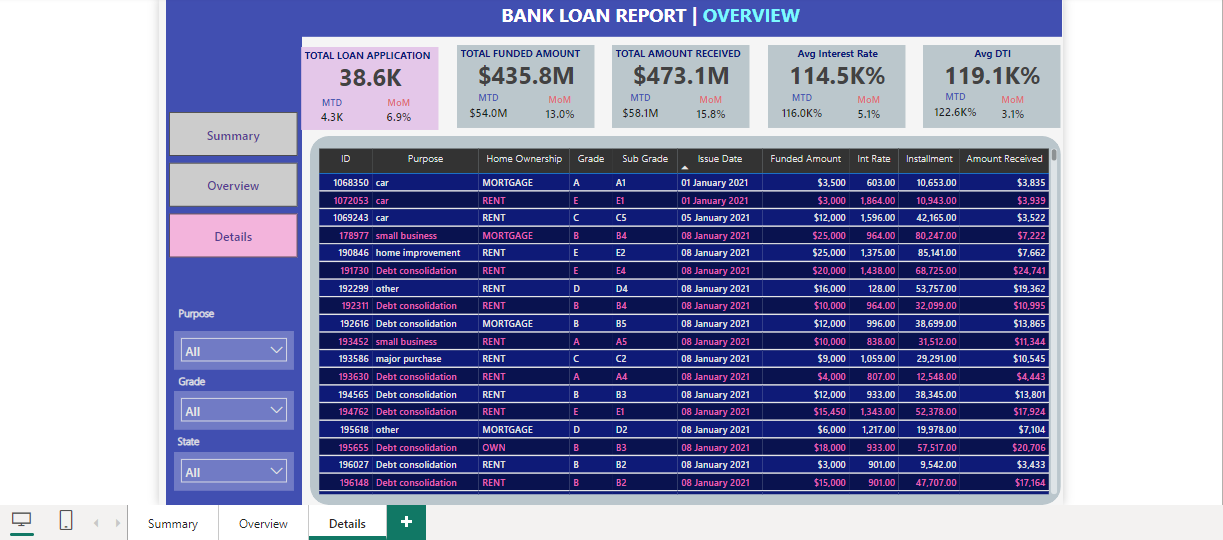

The dashboard page shown, as its layout file describes it:
{"tool":"powerbi","page":{"name":"Details","canvas":[1280,720],"ordinal":2},"visuals":[{"type":"shape","box":[9.9,55.3,192.8,664.7],"z":0},{"type":"shape","box":[422,68.7,194.9,117.6],"z":0,"group":"g2"},{"type":"shape","box":[642.3,68.7,194.9,117.6],"z":0,"group":"g3"},{"type":"shape","box":[862.7,68.7,194.9,117.6],"z":0,"group":"g4"},{"type":"shape","box":[1083.1,68.7,194.9,117.6],"z":0,"group":"g5"},{"type":"shape","box":[201.6,71.5,194.9,117.6],"z":0,"group":"g1"},{"type":"shape","box":[10.1,1.7,1269.9,55.4],"z":1000},{"type":"textbox","box":[421.7,65.2,197,45.4],"z":1000,"group":"g2"},{"type":"textbox","box":[642,65.2,197,45.4],"z":1000,"group":"g3"},{"type":"textbox","box":[862.4,65.2,197,45.4],"z":1000,"group":"g4"},{"type":"textbox","box":[1082.8,65.2,197,45.4],"z":1000,"group":"g5"},{"type":"textbox","box":[201.3,68,197,45.4],"z":1000,"group":"g1"},{"type":"card","fields":{"Values":["Bank_loan_Data.Total Funded Amount"]},"box":[421.7,85,195.6,51],"z":2000,"group":"g2"},{"type":"card","fields":{"Values":["Bank_loan_Data.Total Funded Received"]},"box":[642,85,195.6,51],"z":2000,"group":"g3"},{"type":"card","fields":{"Values":["Bank_loan_Data.Avg Interest Rate"]},"box":[862.4,85,195.6,51],"z":2000,"group":"g4"},{"type":"card","fields":{"Values":["Bank_loan_Data.Avg DTI"]},"box":[1082.8,85,195.6,51],"z":2000,"group":"g5"},{"type":"card","fields":{"Values":["Bank_loan_Data.Total Loan Application"]},"box":[201.3,87.8,195.6,51],"z":2000,"group":"g1"},{"type":"shape","box":[214,197,1064.4,523],"z":2000},{"type":"textbox","box":[475.4,1.7,443.5,57.1],"z":3000},{"type":"card","title":"MTD","fields":{"Values":["Bank_loan_Data.MTD Average DTI"]},"box":[1092.4,131.5,72.3,49.6],"z":3000,"group":"g5"},{"type":"card","title":"MTD","fields":{"Values":["Bank_loan_Data.MTD Funded Amount"]},"box":[433.1,133,66.6,49.6],"z":3000,"group":"g2"},{"type":"card","title":"MTD","fields":{"Values":["Bank_loan_Data.MTD Funded Received"]},"box":[646.8,133,72.3,49.6],"z":3000,"group":"g3"},{"type":"card","title":"MTD","fields":{"Values":["Bank_loan_Data.MTD Average Interest Rate"]},"box":[875.8,133,70.9,49.6],"z":3000,"group":"g4"},{"type":"card","title":"MTD","fields":{"Values":["Bank_loan_Data.MTD Loan Applications"]},"box":[216.5,140.4,56.7,45.4],"z":3000,"group":"g1"},{"type":"group","id":"g1","title":"Group 1","box":[201.3,68,197,120.5],"z":4000},{"type":"card","title":"MoM","fields":{"Values":["Bank_loan_Data.MoM Funded Amount"]},"box":[539.4,135.8,56.7,45.4],"z":4000,"group":"g2"},{"type":"card","title":"MoM","fields":{"Values":["Bank_loan_Data.MoM Funded Received"]},"box":[754.5,135.8,56.7,45.4],"z":4000,"group":"g3"},{"type":"card","title":"MoM","fields":{"Values":["Bank_loan_Data.MoM Avg Int Rate"]},"box":[977.8,135.8,56.7,45.4],"z":4000,"group":"g4"},{"type":"card","title":"MoM","fields":{"Values":["Bank_loan_Data.MoM Avg DTI"]},"box":[1182,136.1,56.7,45.4],"z":4000,"group":"g5"},{"type":"card","title":"MoM","fields":{"Values":["Bank_loan_Data.MoM Loan Application"]},"box":[311.5,140.4,56.7,45.4],"z":4000,"group":"g1"},{"type":"group","id":"g2","title":"Group 1","box":[421.7,65.2,197,121.1],"z":5000},{"type":"group","id":"g3","title":"Group 1","box":[642,65.2,197,121.1],"z":6000},{"type":"group","id":"g4","title":"Group 1","box":[862.4,65.2,197,121.1],"z":7000},{"type":"group","id":"g5","title":"Group 1","box":[1082.8,65.2,197,120.5],"z":8000},{"type":"slicer","fields":{"Values":["Bank_loan_Data.address_state"]},"box":[21.3,644.9,170.1,55.3],"z":10000},{"type":"textbox","box":[21.3,613.7,95,31.2],"z":11000},{"type":"slicer","fields":{"Values":["Bank_loan_Data.grade"]},"box":[21.3,558.4,170.1,55.3],"z":12000},{"type":"textbox","box":[22.7,528.7,82.2,29.8],"z":13000},{"type":"slicer","fields":{"Values":["Bank_loan_Data.purpose"]},"box":[21.3,473.4,170.1,55.3],"z":14000},{"type":"textbox","box":[22.7,432.3,89.3,35.4],"z":15000},{"type":"tableEx","fields":{"Values":["Bank_loan_Data.id","Bank_loan_Data.purpose","Bank_loan_Data.home_ownership","Bank_loan_Data.grade","Bank_loan_Data.sub_grade","Bank_loan_Data.issue_date","Bank_loan_Data.Total Funded Amount","Sum(Bank_loan_Data.int_rate)","Sum(Bank_loan_Data.installment)","Bank_loan_Data.Total Funded Received"]},"box":[221.1,209.8,1057.3,500.3],"z":18001},{"type":"pageNavigator","box":[14.2,163,182.8,206.9],"z":18002}]}

Visuals, with their boxes on the page's 1280x720 design canvas (x1, y1, x2, y2). These are canvas units, not pixel positions in the 1223x540 screenshot, which may show the page scaled, cropped or inside an application window:
shape: BBox(10, 55, 203, 720)
shape: BBox(422, 69, 617, 186)
shape: BBox(642, 69, 837, 186)
shape: BBox(863, 69, 1058, 186)
shape: BBox(1083, 69, 1278, 186)
shape: BBox(202, 72, 396, 189)
shape: BBox(10, 2, 1280, 57)
textbox: BBox(422, 65, 619, 111)
textbox: BBox(642, 65, 839, 111)
textbox: BBox(862, 65, 1059, 111)
textbox: BBox(1083, 65, 1280, 111)
textbox: BBox(201, 68, 398, 113)
card - Bank_loan_Data.Total Funded Amount: BBox(422, 85, 617, 136)
card - Bank_loan_Data.Total Funded Received: BBox(642, 85, 838, 136)
card - Bank_loan_Data.Avg Interest Rate: BBox(862, 85, 1058, 136)
card - Bank_loan_Data.Avg DTI: BBox(1083, 85, 1278, 136)
card - Bank_loan_Data.Total Loan Application: BBox(201, 88, 397, 139)
shape: BBox(214, 197, 1278, 720)
textbox: BBox(475, 2, 919, 59)
"MTD" card: BBox(1092, 132, 1165, 181)
"MTD" card: BBox(433, 133, 500, 183)
"MTD" card: BBox(647, 133, 719, 183)
"MTD" card: BBox(876, 133, 947, 183)
"MTD" card: BBox(216, 140, 273, 186)
"Group 1" group: BBox(201, 68, 398, 188)
"MoM" card: BBox(539, 136, 596, 181)
"MoM" card: BBox(754, 136, 811, 181)
"MoM" card: BBox(978, 136, 1034, 181)
"MoM" card: BBox(1182, 136, 1239, 182)
"MoM" card: BBox(312, 140, 368, 186)
"Group 1" group: BBox(422, 65, 619, 186)
"Group 1" group: BBox(642, 65, 839, 186)
"Group 1" group: BBox(862, 65, 1059, 186)
"Group 1" group: BBox(1083, 65, 1280, 186)
slicer - Bank_loan_Data.address_state: BBox(21, 645, 191, 700)
textbox: BBox(21, 614, 116, 645)
slicer - Bank_loan_Data.grade: BBox(21, 558, 191, 614)
textbox: BBox(23, 529, 105, 558)
slicer - Bank_loan_Data.purpose: BBox(21, 473, 191, 529)
textbox: BBox(23, 432, 112, 468)
tableEx - Bank_loan_Data.id x Bank_loan_Data.purpose: BBox(221, 210, 1278, 710)
pageNavigator: BBox(14, 163, 197, 370)
